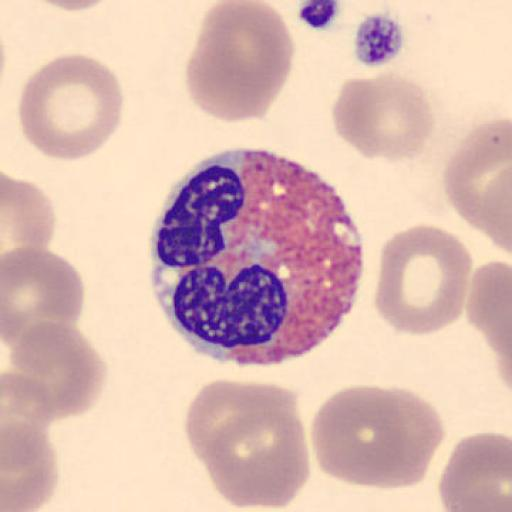Platelet: (350, 10, 409, 69)
RBC: (307, 384, 445, 490), (184, 0, 295, 124), (194, 407, 312, 510), (16, 52, 124, 162), (373, 221, 472, 336), (184, 378, 298, 470), (7, 320, 110, 418), (331, 70, 436, 164), (356, 384, 446, 490), (1, 245, 87, 352), (0, 370, 60, 512), (443, 115, 512, 232), (438, 430, 512, 512), (469, 257, 512, 393), (2, 419, 59, 512), (1, 172, 57, 264), (2, 371, 56, 456), (478, 164, 512, 258), (27, 0, 115, 11)
WBC: (148, 154, 367, 368)
